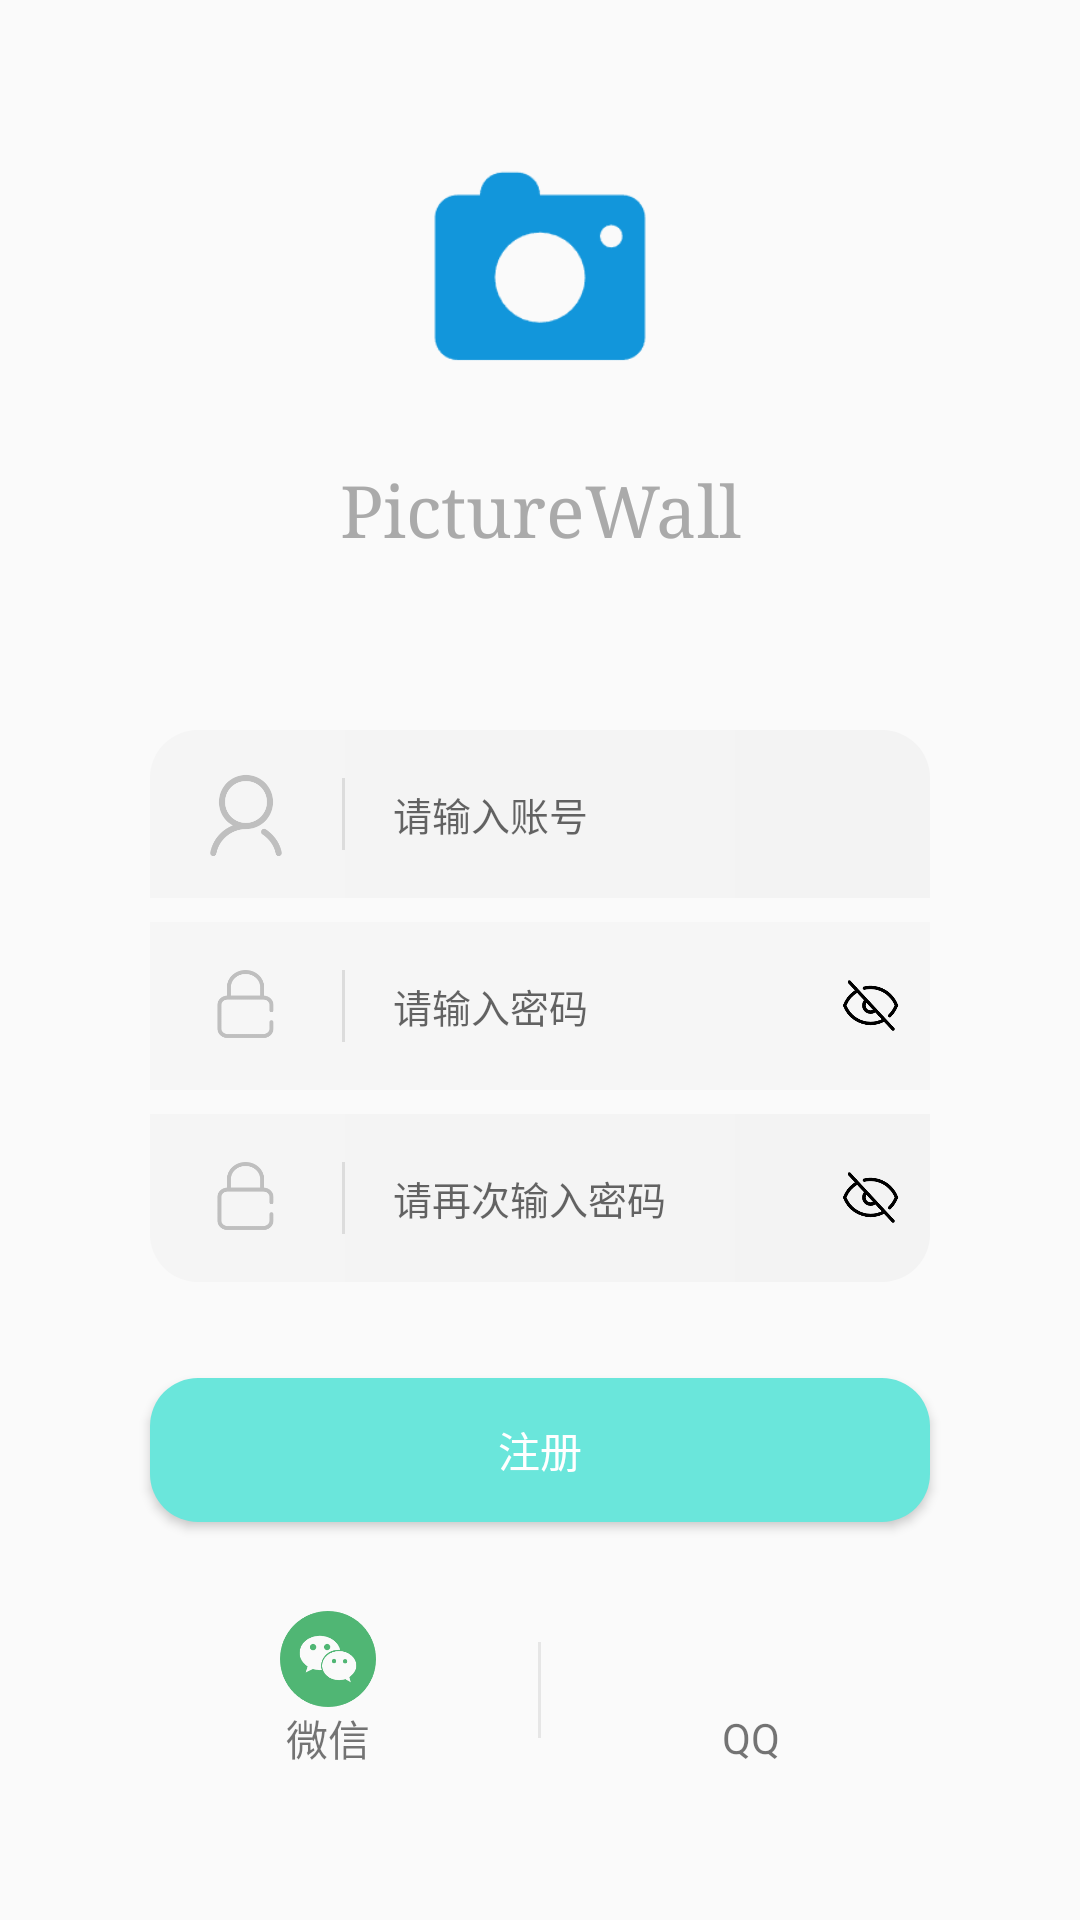

Named icons in this screenshot (1080px×1920px) and their centers, (x,y):
camera: (540,266)
eye off: (870,1005), (870,1197)
lock: (245,1004), (245,1196)
person: (246,815)
